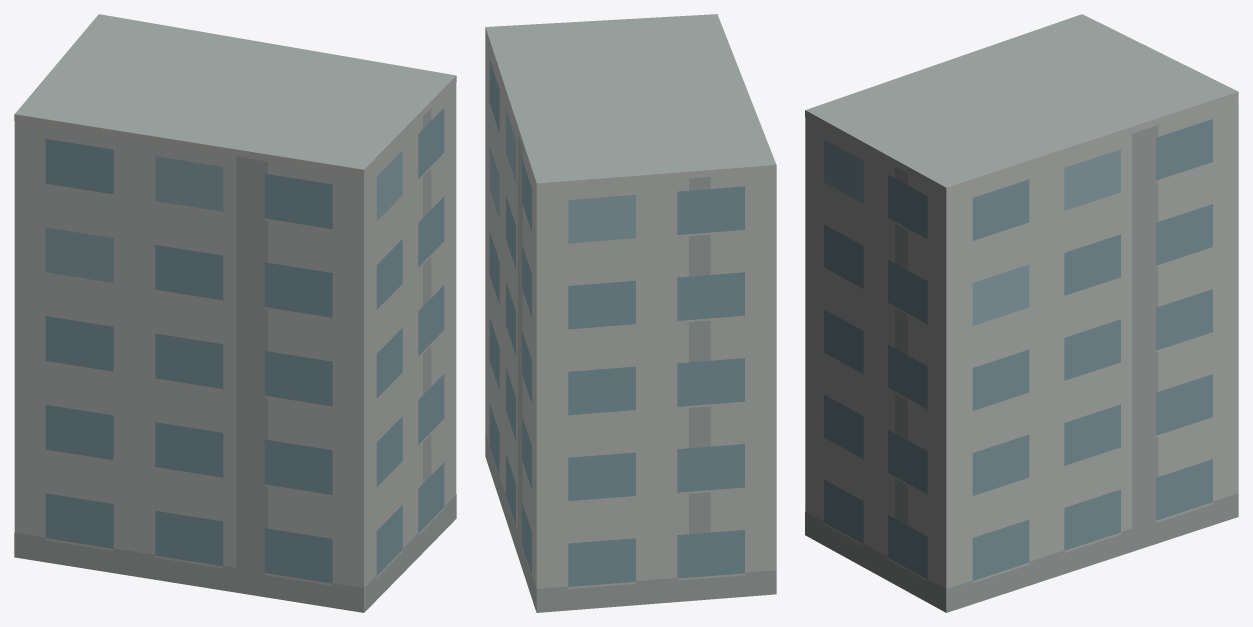
Rendered from survey-upis-32493253.glb.
The picture shows the model from 3 angles, left to right: view 1: azimuth 30°, elevation 25°; view 2: azimuth 150°, elevation 25°; view 3: azimuth 270°, elevation 25°; orthographic projection. The views are drawn at different scales.
Parts seen in each view (by area): view 1: survey-upis-32493253.tmp; view 2: survey-upis-32493253.tmp; view 3: survey-upis-32493253.tmp.
Part boxes in pixels (x1=…): survey-upis-32493253.tmp: x1=14, y1=14, x2=456, y2=612; survey-upis-32493253.tmp: x1=485, y1=14, x2=776, y2=612; survey-upis-32493253.tmp: x1=805, y1=14, x2=1238, y2=612.
Size of the model in its own units: 13.38 by 15.25 by 14.1.
